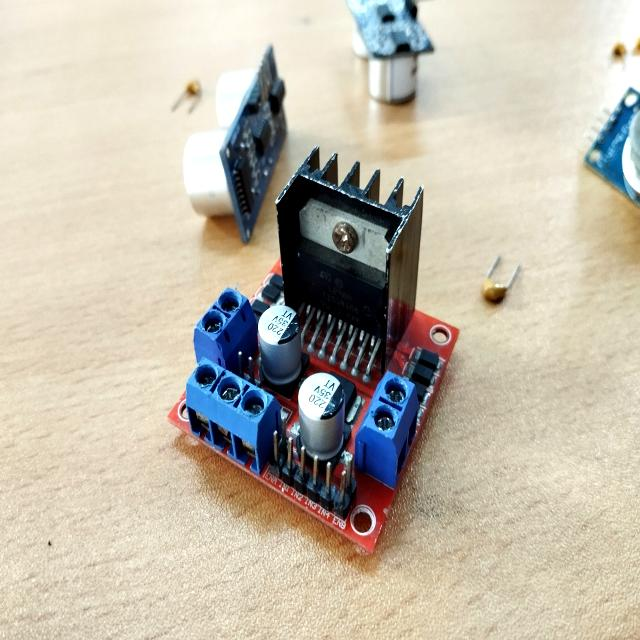capacitor: (484, 288, 506, 306)
